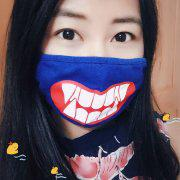OK: (36, 9, 148, 124)
